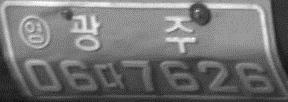0: (23, 58, 60, 91)
2: (199, 60, 235, 92)
6: (236, 61, 273, 94), (160, 60, 197, 92), (60, 59, 95, 91)
7: (124, 59, 155, 91)
광주_D: (69, 13, 197, 54)
다: (95, 61, 123, 90)
영: (18, 14, 50, 49)
